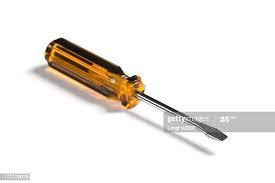screwdriver: (44, 37, 227, 141)
